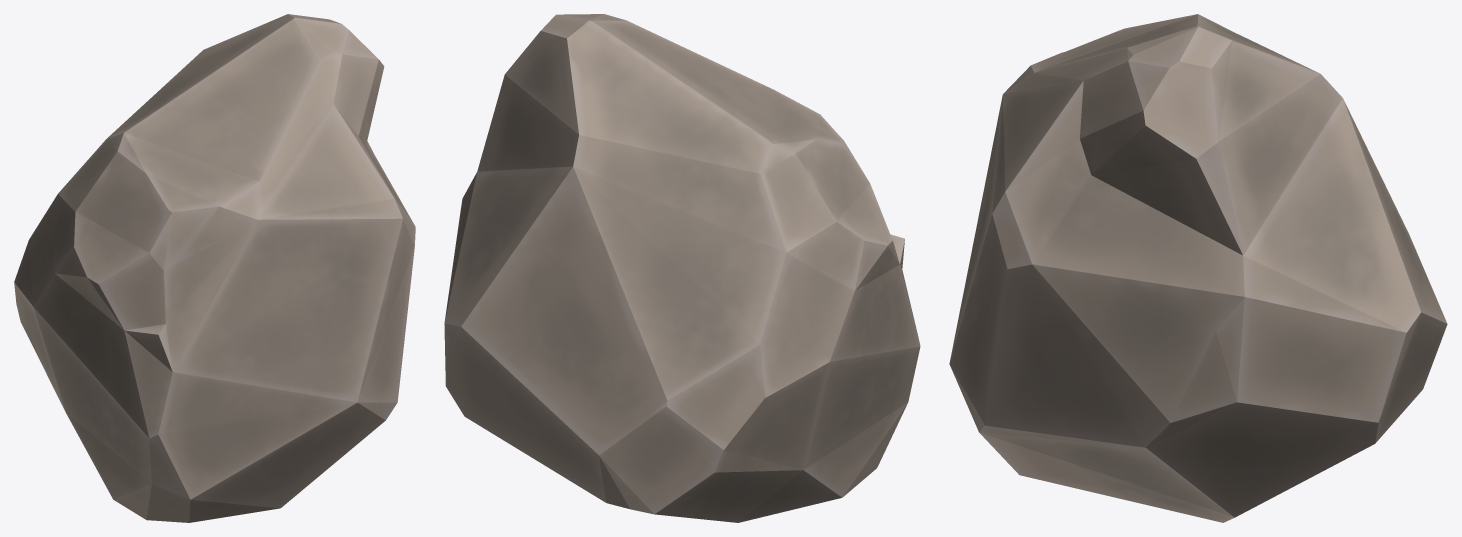
The model's file is Stage_stone_001.fbx.
3 renders of one model, left to right at view 1: azimuth 30°, elevation 25°; view 2: azimuth 150°, elevation 25°; view 3: azimuth 270°, elevation 25°, orthographic. The views are drawn at different scales.
Visible parts, largest first — view 1: Stone.006; view 2: Stone.006; view 3: Stone.006.
Part boxes in pixels (x1=…): Stone.006: x1=14, y1=14, x2=415, y2=522; Stone.006: x1=444, y1=14, x2=920, y2=522; Stone.006: x1=949, y1=14, x2=1447, y2=522.
Bounding box in the file's own units: 275 × 323 × 288.
